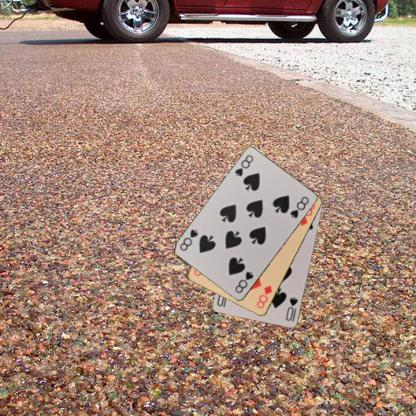10s: (283, 294, 299, 323)
8d: (254, 283, 273, 310)
8s: (232, 269, 255, 295), (232, 152, 255, 178)
